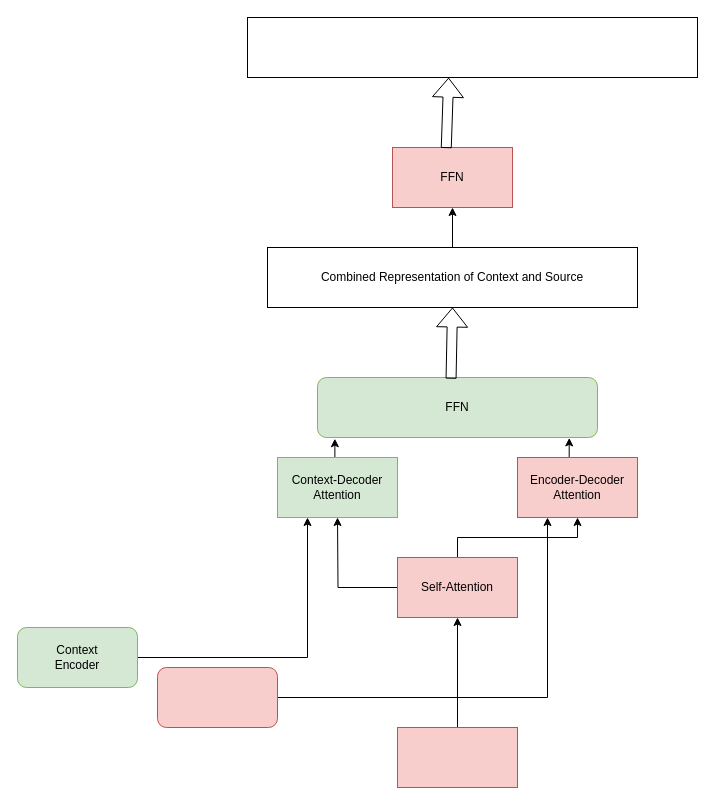
The diagram is 715 pixels wide and 805 high, and some of its shapes have lost their labels. Here are the shapes that lost their labels. From the top down, the centre of each, then its label:
At (x=472, y=47): "Translation of Question <sep> Translation of Answer".
At (x=217, y=697): "Source Encoder".
At (x=457, y=757): "Target Embedding".
